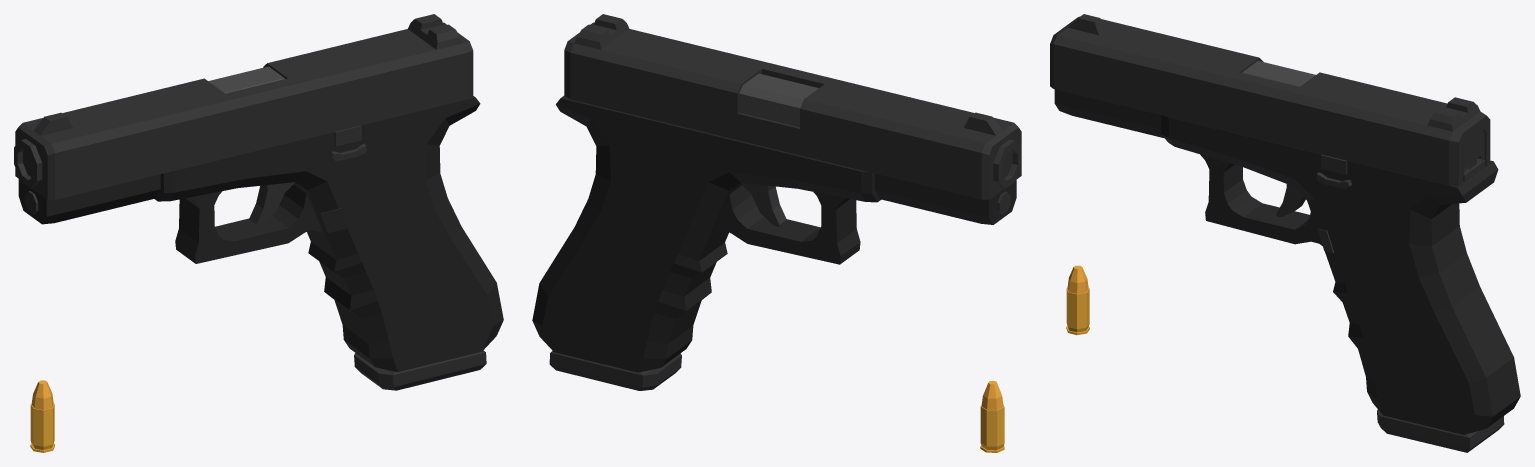
The model's file is Glock.fbx.
3 views of the same model, side by side, from view 1: azimuth 30°, elevation 25°; view 2: azimuth 150°, elevation 25°; view 3: azimuth 330°, elevation 25° (orthographic). The views are drawn at different scales.
Visible parts, largest first — view 1: Glock, Mag, Bullet; view 2: Glock, Mag, Bullet; view 3: Glock, Mag, Bullet.
Part boxes in pixels (<box>): Glock: <box>14,14,503,372</box>; Mag: <box>354,350,486,390</box>; Bullet: <box>30,380,54,452</box>; Glock: <box>532,14,1021,372</box>; Mag: <box>549,351,681,390</box>; Bullet: <box>980,380,1004,452</box>; Glock: <box>1050,14,1520,434</box>; Mag: <box>1377,410,1504,452</box>; Bullet: <box>1066,265,1089,335</box>.
Bounding box in the file's own units: 455 × 321 × 67.76.
Materials: 1 (1 with a texture image).
